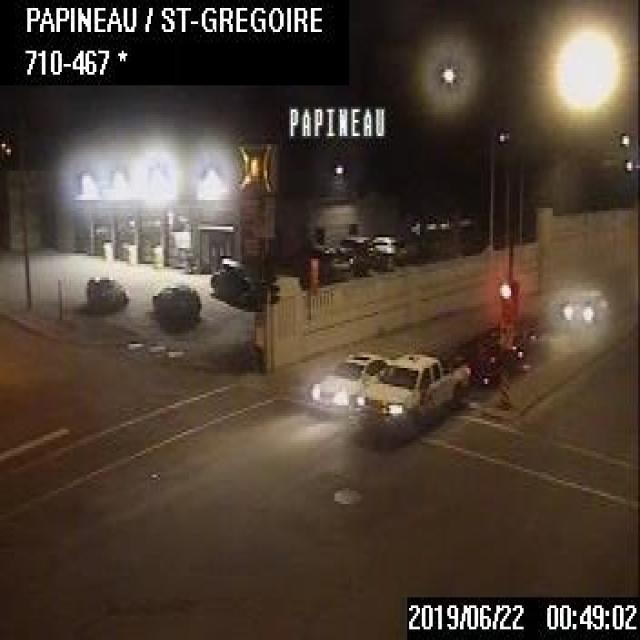vehicle: (356, 348, 472, 432), (305, 346, 392, 416), (210, 253, 258, 308), (558, 286, 610, 323), (151, 280, 199, 320), (84, 274, 122, 308)
